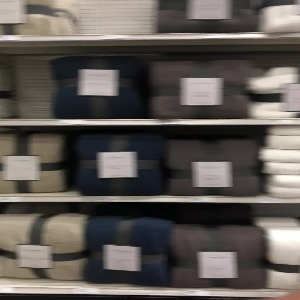void: (6, 48, 54, 118), (76, 1, 151, 36)
